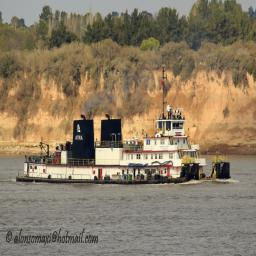tugboat: (16, 66, 234, 190)
